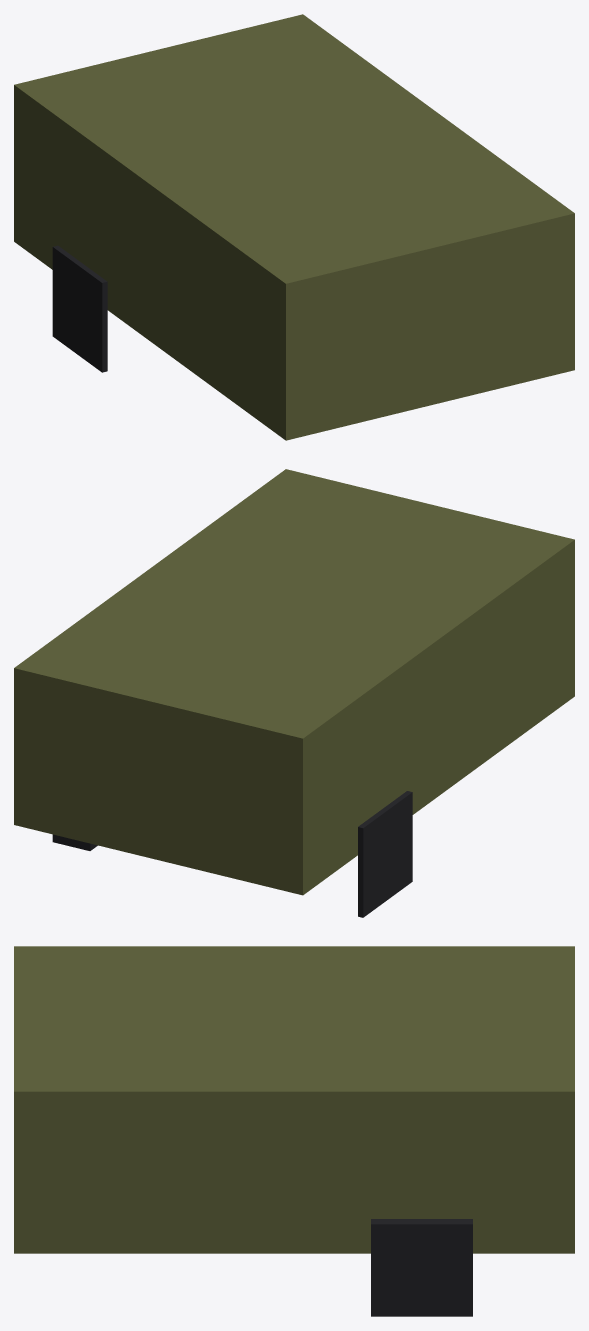
Rendered from field_kitchen_lod1.glb.
The picture shows the model from 3 angles, top to bottom: view 1: azimuth 30°, elevation 25°; view 2: azimuth 150°, elevation 25°; view 3: azimuth 270°, elevation 25°; orthographic projection. The views are drawn at different scales.
Visible parts, largest first — view 1: field_kitchen_lod1; view 2: field_kitchen_lod1; view 3: field_kitchen_lod1.
Boxes of the visible parts, x1,y1,x2,y2 form: field_kitchen_lod1: [14, 14, 574, 440]; field_kitchen_lod1: [14, 469, 574, 917]; field_kitchen_lod1: [14, 946, 574, 1316].
Size of what is drawn, in the model's own units: 2.9 by 1.9 by 4.4.
2 materials, 2 textured.
